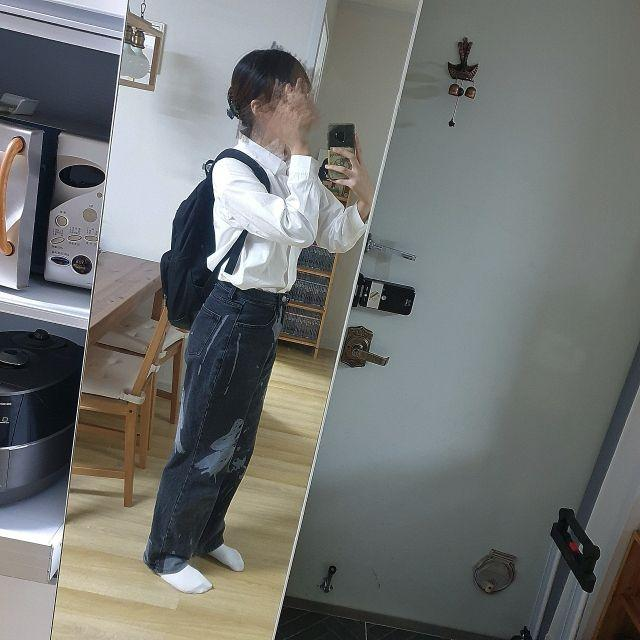denimpants: (143, 278, 284, 571)
shirt: (206, 131, 368, 293)
